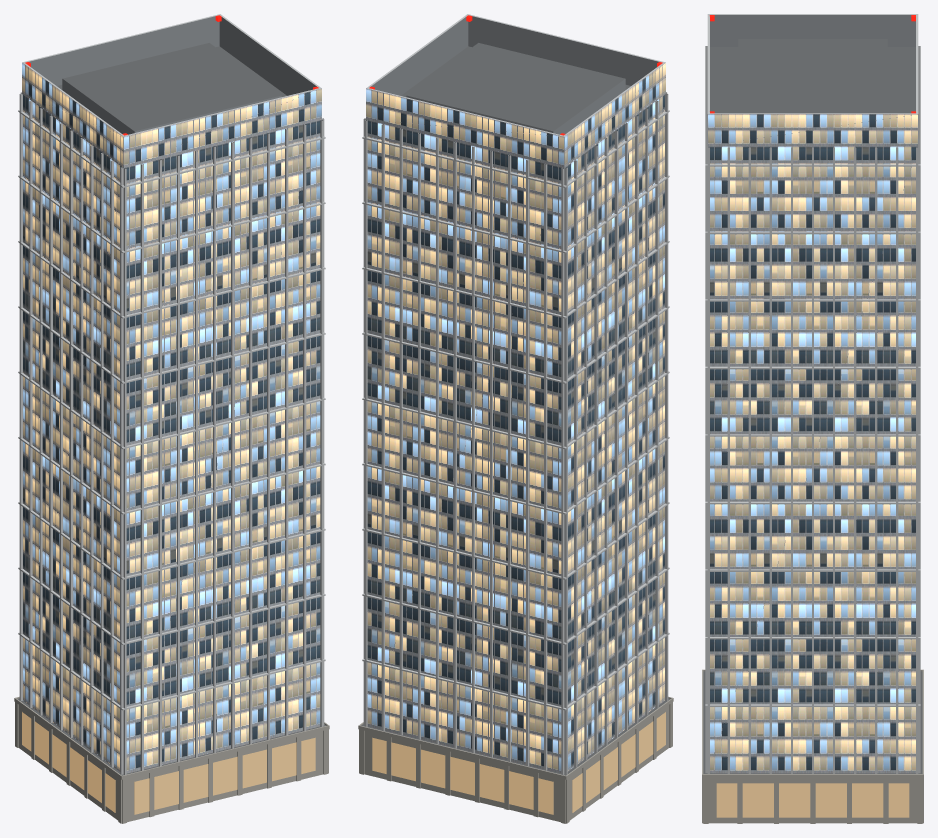
The model's file is kasumigaseki_common_gate.glb.
3 views of the same model, side by side, from view 1: azimuth 30°, elevation 25°; view 2: azimuth 150°, elevation 25°; view 3: azimuth 270°, elevation 25° (orthographic). The views are drawn at different scales.
Parts seen in each view (by area): view 1: kasumigaseki_common_gate; view 2: kasumigaseki_common_gate; view 3: kasumigaseki_common_gate.
Part boxes in pixels (bbox=[...]): kasumigaseki_common_gate: bbox=[14, 14, 329, 823]; kasumigaseki_common_gate: bbox=[358, 14, 673, 823]; kasumigaseki_common_gate: bbox=[702, 14, 923, 823].
Bounding box in the file's own units: 56 × 176 × 50.
Materials: 2 (2 with a texture image).
